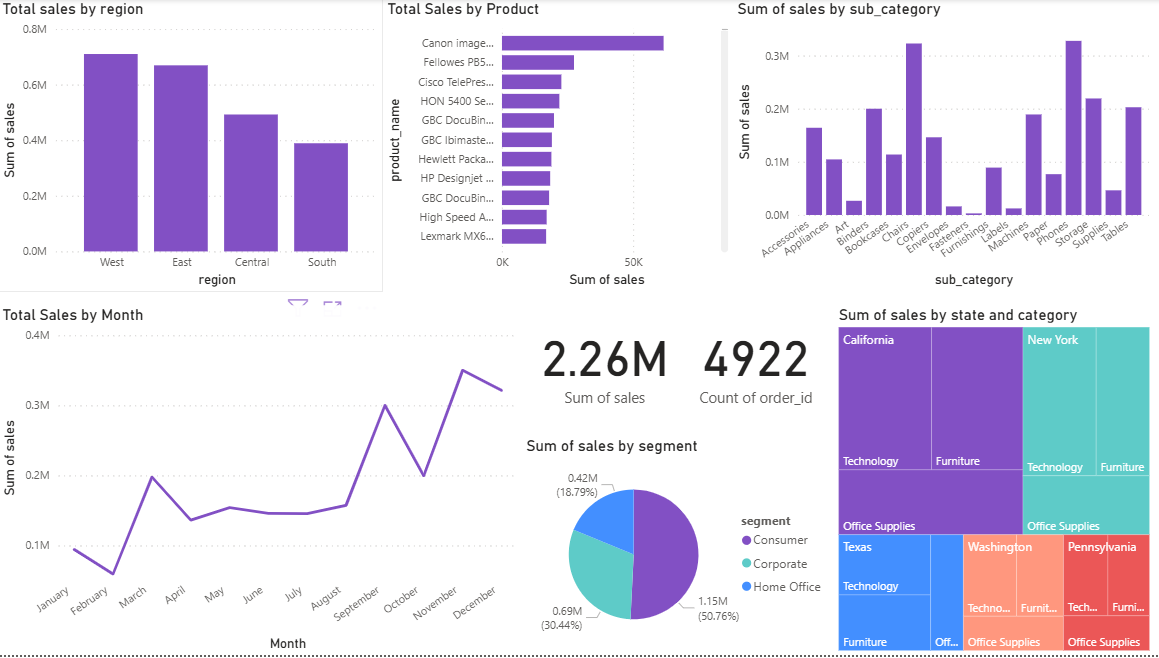

The dashboard page shown, as its layout file describes it:
{"tool":"powerbi","page":{"name":"Page 1","canvas":[1280,720],"ordinal":0},"visuals":[{"type":"columnChart","title":"Total sales by region","fields":{"Category":["clean_orders.region"],"Y":["Sum(clean_orders.sales)"]},"box":[0,0,422.6,321.1],"z":0},{"type":"barChart","title":"Total Sales by Product","fields":{"Y":["Sum(clean_orders.sales)"],"Category":["clean_orders.product_name"]},"box":[422.6,0,384.2,321.1],"z":1000},{"type":"lineChart","title":"Total Sales by Month","fields":{"Y":["Sum(clean_orders.sales)"],"Category":["clean_orders.order_date.Variation.Date Hierarchy.Month"]},"box":[0,336.2,575,384.2],"z":2000},{"type":"columnChart","fields":{"Y":["Sum(clean_orders.sales)"],"Category":["clean_orders.category","clean_orders.sub_category"]},"box":[806.9,0,462.4,321.1],"z":3000},{"type":"pieChart","fields":{"Y":["Sum(clean_orders.sales)"],"Category":["clean_orders.segment"]},"box":[575,480.3,343.1,240.1],"z":4000},{"type":"treemap","fields":{"Values":["Sum(clean_orders.sales)"],"Group":["clean_orders.state"],"Details":["clean_orders.category"]},"box":[918,336.2,351.3,384.2],"z":5000},{"type":"card","fields":{"Values":["Sum(clean_orders.sales)"]},"box":[575,336.2,182.5,126.2],"z":6000},{"type":"card","fields":{"Values":["Count(clean_orders.order_id)"]},"box":[746.5,336.2,171.5,126.2],"z":7000}]}

Visuals, with their boxes in screenshot pixels (x1, y1, x2, y2), scaled from the page's 1280x720 canvas onto the 1159x658 screenshot:
"Total sales by region" columnChart: <box>0,0,383,293</box>
"Total Sales by Product" barChart: <box>383,0,731,293</box>
"Total Sales by Month" lineChart: <box>0,307,521,657</box>
columnChart - Sum(clean_orders.sales) x clean_orders.category: <box>731,0,1149,293</box>
pieChart - Sum(clean_orders.sales) x clean_orders.segment: <box>521,439,831,657</box>
treemap - Sum(clean_orders.sales) x clean_orders.state: <box>831,307,1149,657</box>
card - Sum(clean_orders.sales): <box>521,307,686,423</box>
card - Count(clean_orders.order_id): <box>676,307,831,423</box>
